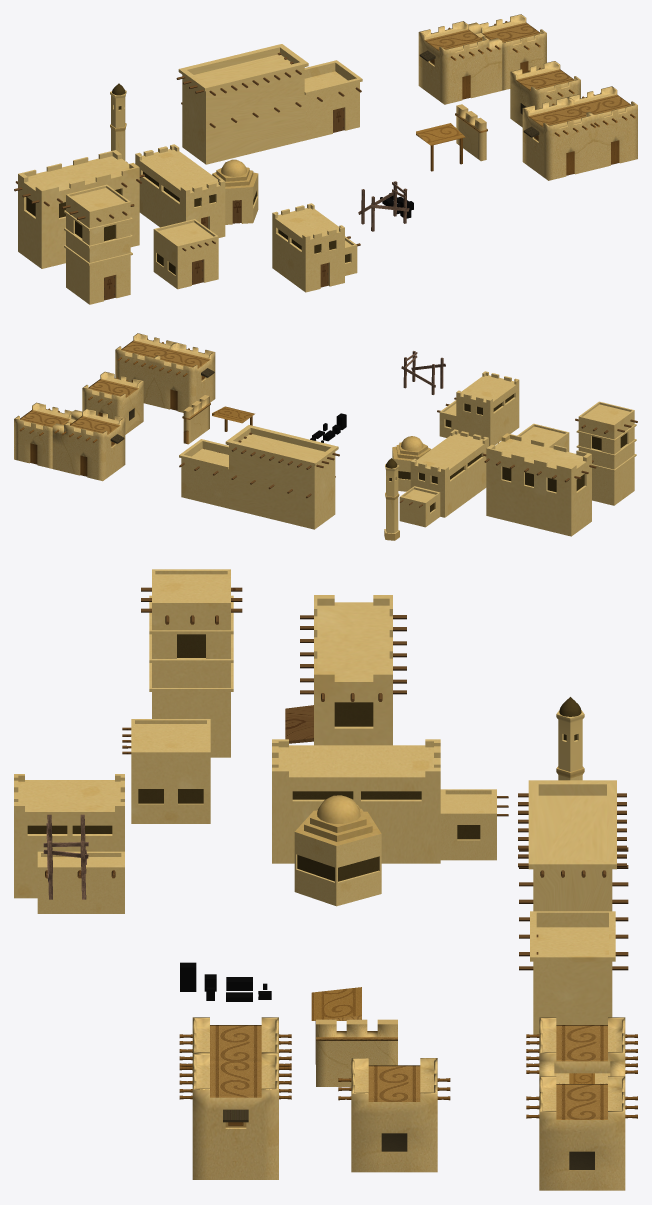
Rendered from build_pack_v4.fbx.
3 views of the same model, one above another, from view 1: azimuth 30°, elevation 25°; view 2: azimuth 150°, elevation 25°; view 3: azimuth 270°, elevation 25° (orthographic). The views are drawn at different scales.
Visible parts, largest first — view 1: build_5, build_9_2_jump1, build_4, build_1, build_9, build_9_1_1_jump1, build_8, build_2, build_9_jump2, build_9_1_jump1, build_3, zabor1 (+2 smaller); view 2: build_5, build_4, build_9, build_9_2_jump1, build_1, build_9_1_1_jump1, build_8, build_9_jump2, build_9_1_jump1, build_3, build_7, zabor1 (+2 smaller); view 3: build_5, build_9, build_9_2_jump1, build_8, build_4, build_1, build_9_jump2, build_9_1_jump1, build_2, build_3, build_9_1_1_jump1, zabor1 (+2 smaller).
Boxes of the visible parts, <box> form: build_5: <box>176,44,362,164</box>; build_9_2_jump1: <box>522,86,637,180</box>; build_4: <box>14,150,144,268</box>; build_1: <box>62,184,134,304</box>; build_9: <box>135,144,225,237</box>; build_9_1_1_jump1: <box>418,21,502,104</box>; build_8: <box>272,203,360,292</box>; build_2: <box>153,219,218,289</box>; build_9_jump2: <box>510,61,580,127</box>; build_9_1_jump1: <box>479,14,546,90</box>; build_3: <box>212,159,258,224</box>; zabor1: <box>455,104,487,161</box>; build_5: <box>179,425,339,529</box>; build_4: <box>483,433,596,536</box>; build_9: <box>399,429,488,527</box>; build_9_2_jump1: <box>115,333,215,412</box>; build_1: <box>575,401,637,505</box>; build_9_1_1_jump1: <box>52,408,125,481</box>; build_8: <box>437,371,519,445</box>; build_9_jump2: <box>82,371,143,434</box>; build_9_1_jump1: <box>14,402,72,468</box>; build_3: <box>392,436,431,491</box>; build_7: <box>384,458,399,540</box>; zabor1: <box>182,395,210,444</box>; build_5: <box>518,780,628,1034</box>; build_9: <box>272,739,508,863</box>; build_9_2_jump1: <box>179,1017,291,1179</box>; build_8: <box>14,774,124,913</box>; build_4: <box>285,595,406,745</box>; build_1: <box>141,569,242,757</box>; build_9_jump2: <box>338,1058,450,1172</box>; build_9_1_jump1: <box>526,1076,637,1190</box>; build_2: <box>122,719,210,823</box>; build_3: <box>294,795,381,906</box>; build_9_1_1_jump1: <box>526,1017,637,1083</box>; zabor1: <box>316,1019,397,1086</box>.
Bounding box in the file's own units: 12992 × 1993 × 7250.
4 materials, 3 textured.
